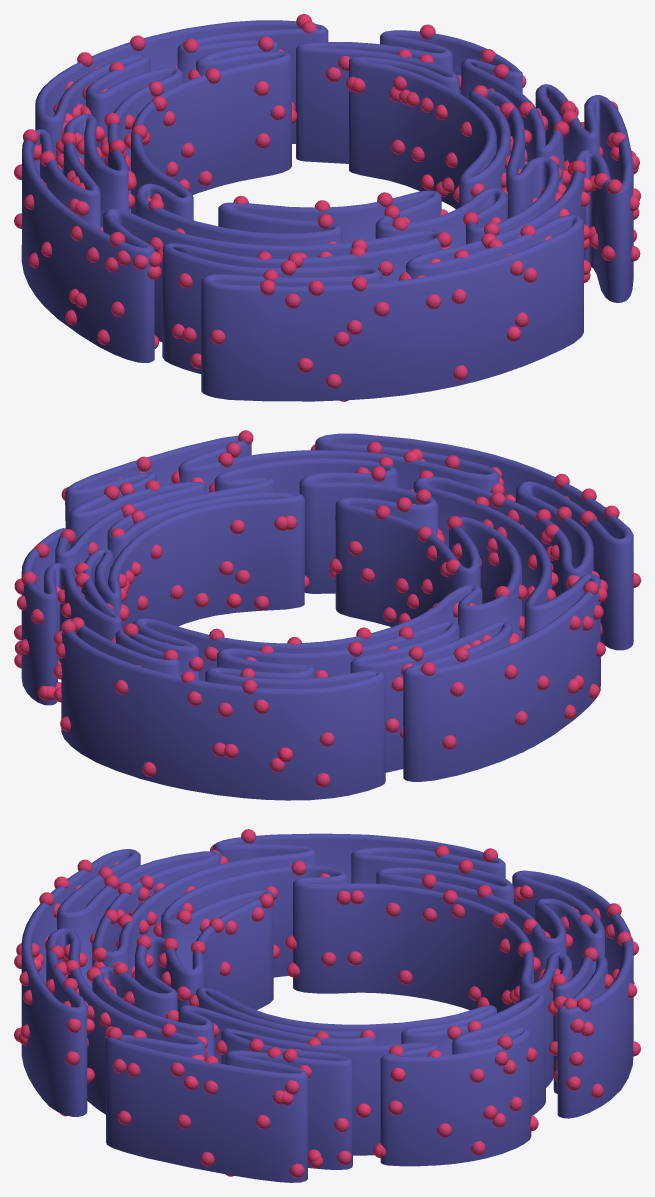
Rendered from Rough Endoplasmic Reticulum.glb.
The picture shows the model from 3 angles, top to bottom: view 1: azimuth 30°, elevation 25°; view 2: azimuth 150°, elevation 25°; view 3: azimuth 270°, elevation 25°; orthographic projection. The views are drawn at different scales.
Visible parts, largest first — view 1: BezierCurve; view 2: BezierCurve; view 3: BezierCurve.
Part boxes in pixels (x1,y1,x2,y2): BezierCurve: (21,20,633,401); BezierCurve: (21,433,633,800); BezierCurve: (21,833,633,1182).
Size of the model in its own units: 3.91 by 0.8805 by 4.14.
